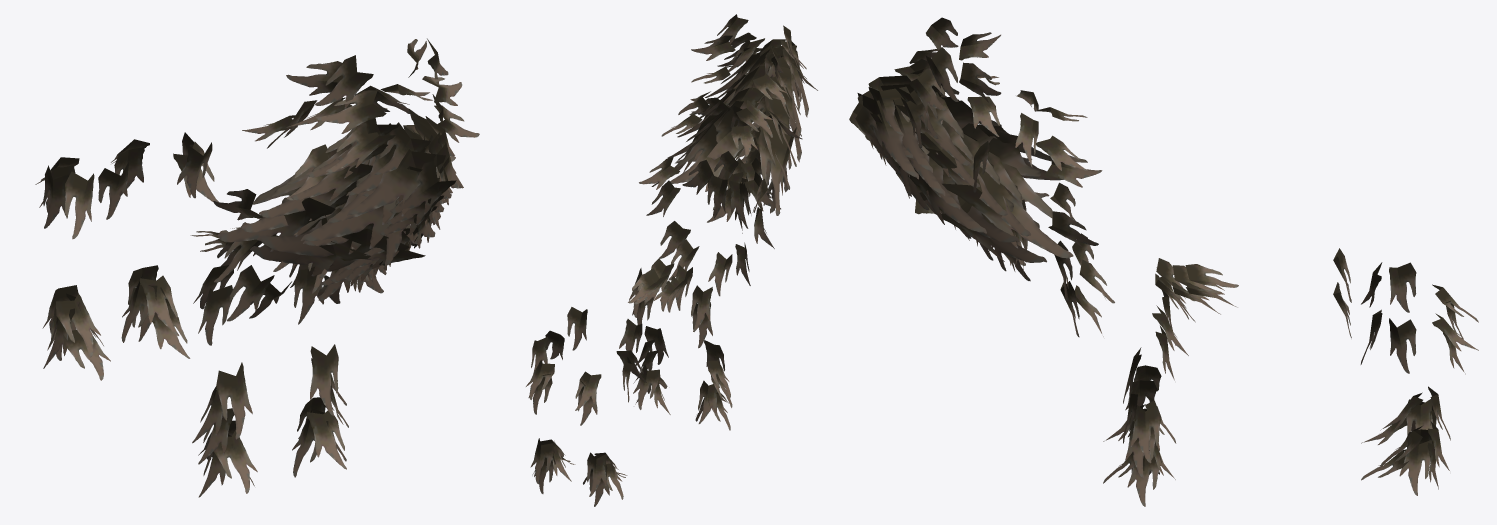
The model's file is extrafur.fbx.
3 views of the same model, side by side, from view 1: azimuth 30°, elevation 25°; view 2: azimuth 150°, elevation 25°; view 3: azimuth 270°, elevation 25° (orthographic). The views are drawn at different scales.
Parts seen in each view (by area): view 1: extrafur; view 2: extrafur; view 3: extrafur.
Part boxes in pixels (<box>): extrafur: <box>35,38,479,497</box>; extrafur: <box>526,14,817,506</box>; extrafur: <box>849,17,1478,506</box>.
Size of the model in its own units: 73.65 by 162 by 207.
